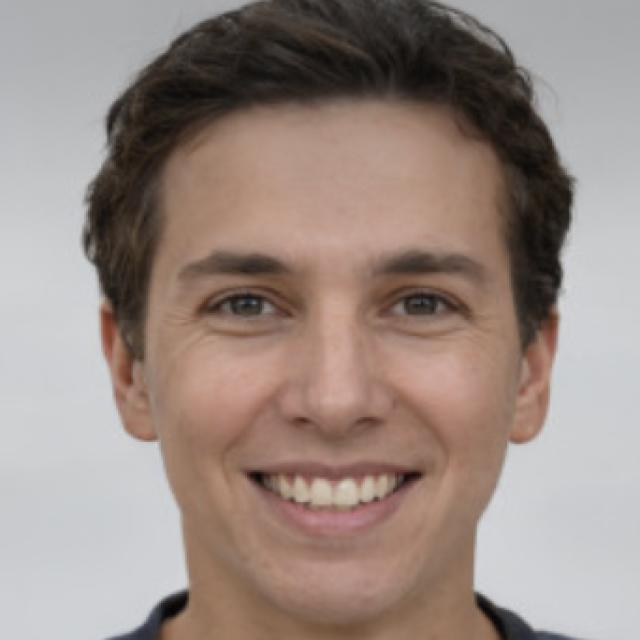happy: (77, 24, 564, 635)
